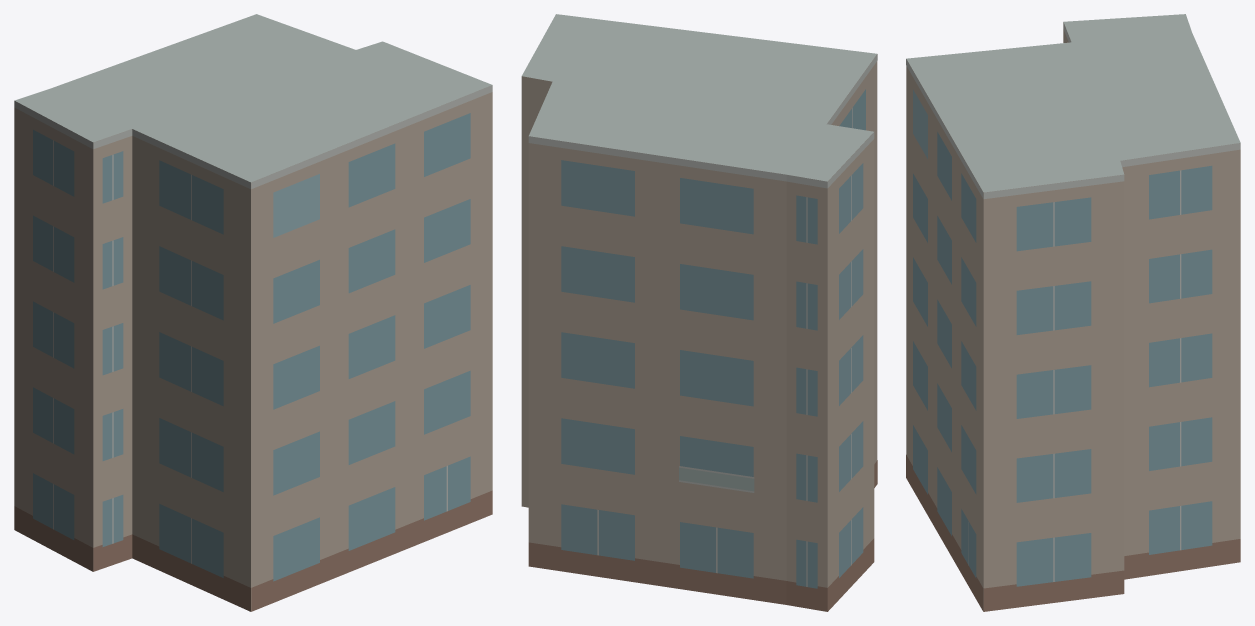
File: survey-upis-32641293.glb
The picture shows the model from 3 angles, left to right: view 1: azimuth 30°, elevation 25°; view 2: azimuth 150°, elevation 25°; view 3: azimuth 270°, elevation 25°; orthographic projection. The views are drawn at different scales.
Visible parts, largest first — view 1: survey-upis-32641293.tmp; view 2: survey-upis-32641293.tmp; view 3: survey-upis-32641293.tmp.
Part boxes in pixels (x1,y1,x2,y2): survey-upis-32641293.tmp: (14, 14, 492, 611); survey-upis-32641293.tmp: (521, 14, 877, 611); survey-upis-32641293.tmp: (906, 14, 1240, 611).
Bounding box in the file's own units: 13.94 × 15.25 × 11.04.
